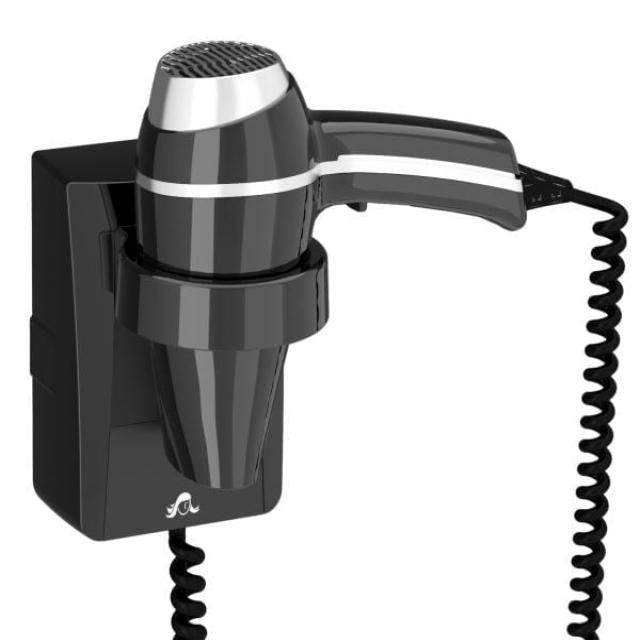dryer: (18, 22, 622, 572), (117, 37, 600, 516)
